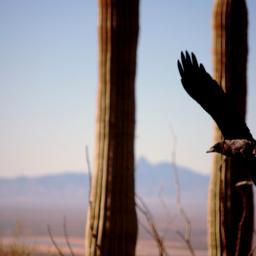Crow: (174, 48, 256, 220)
